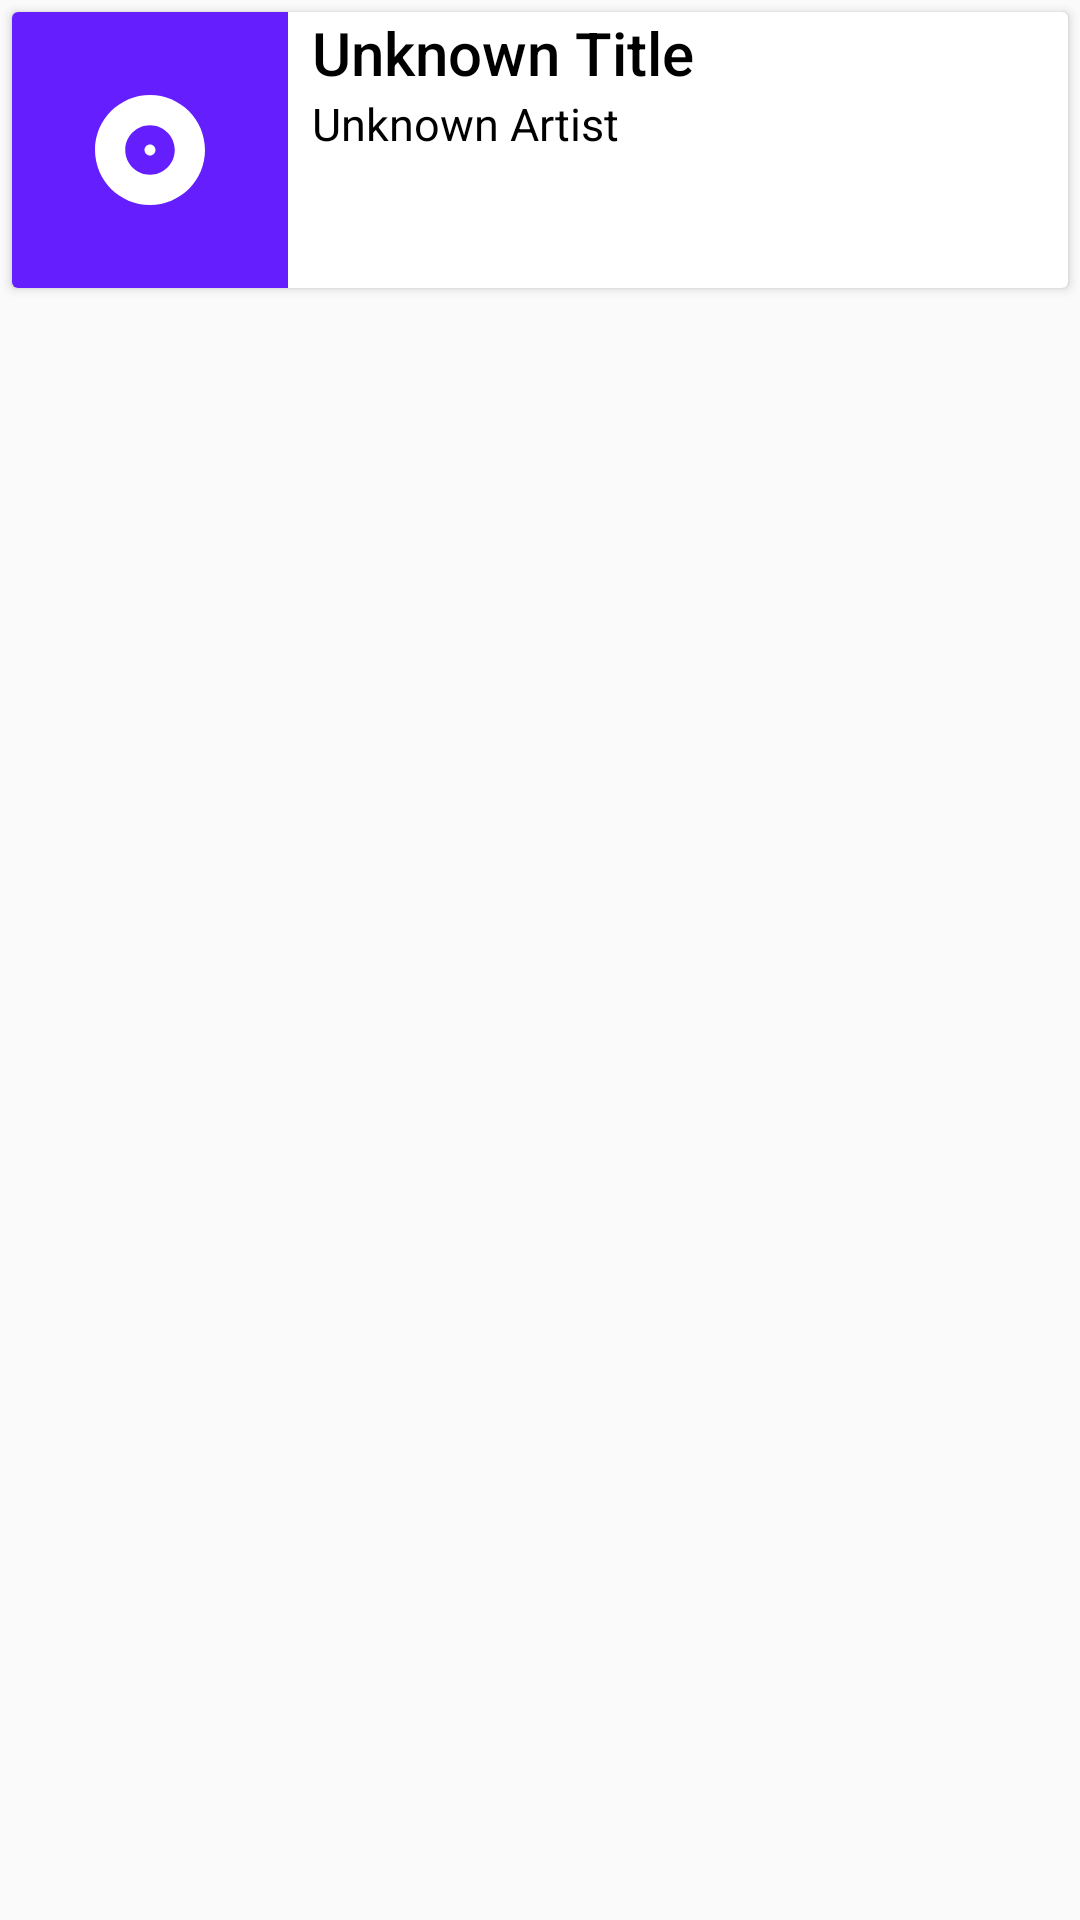

Icons on this 1080px x 1920px Android screen, each with its box as (x1, y1, x2, y2):
Album Cover: (12, 12, 288, 288)
